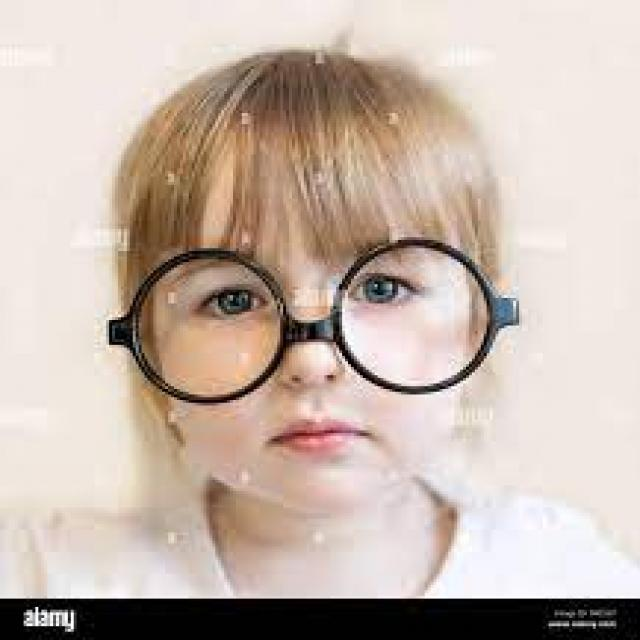Glasses: (105, 229, 526, 412)
